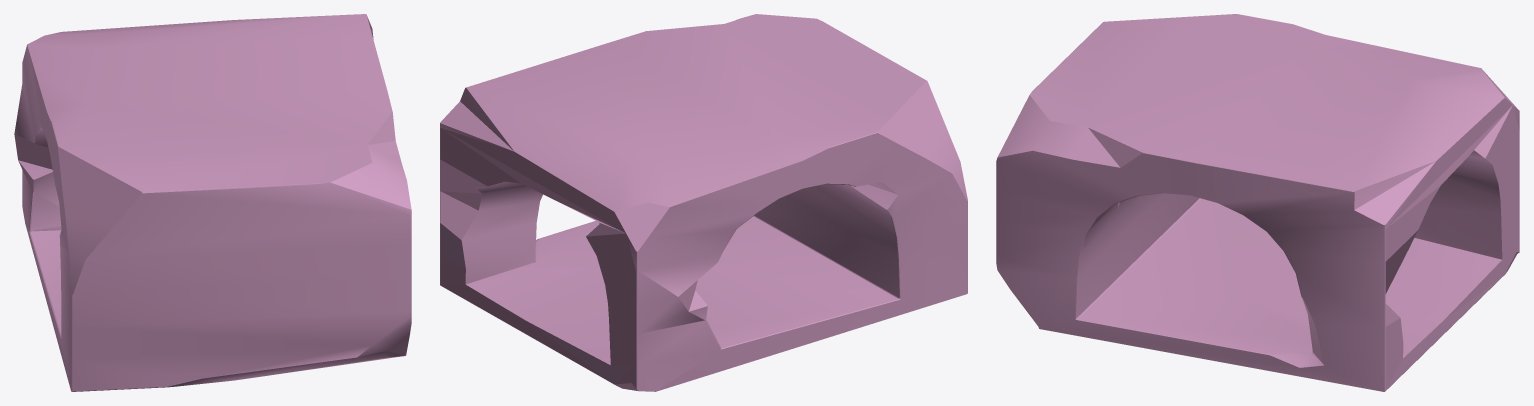
File: kocia_chatka_dwa_drzwi_splaszczona.fbx
The picture shows the model from 3 angles, left to right: view 1: azimuth 30°, elevation 25°; view 2: azimuth 150°, elevation 25°; view 3: azimuth 270°, elevation 25°; orthographic projection. The views are drawn at different scales.
Visible parts, largest first — view 1: kocia_chatka_dwa_drzwi_splaszczona; view 2: kocia_chatka_dwa_drzwi_splaszczona; view 3: kocia_chatka_dwa_drzwi_splaszczona.
Boxes of the visible parts, x1,y1,x2,y2 form: kocia_chatka_dwa_drzwi_splaszczona: (14, 14, 411, 391); kocia_chatka_dwa_drzwi_splaszczona: (440, 14, 967, 391); kocia_chatka_dwa_drzwi_splaszczona: (996, 14, 1519, 391).
Size of the model in its own units: 445 by 200 by 486.
